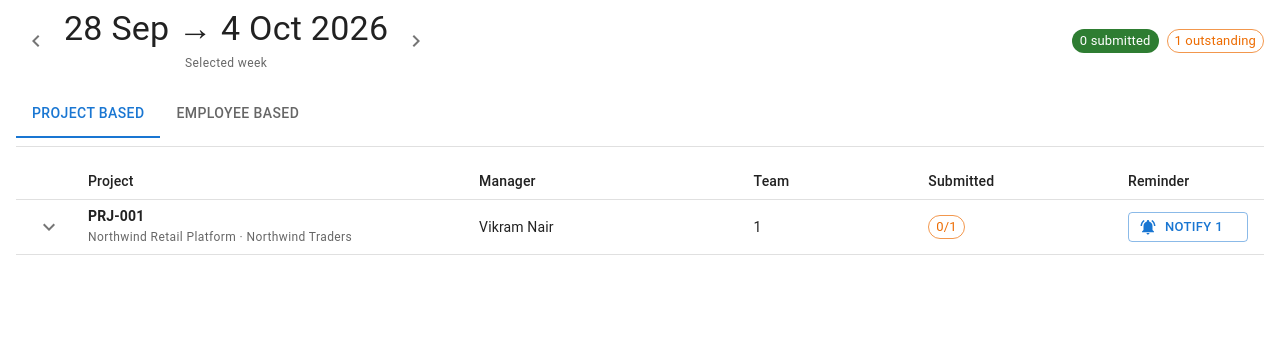
Test: TimesheetTrackingTab, project view › opens it from the arrow exactly once
The image size is (1280, 358).
Click the button named "Show the team on PRJ-001": (49, 227) [32, 210, 66, 244]
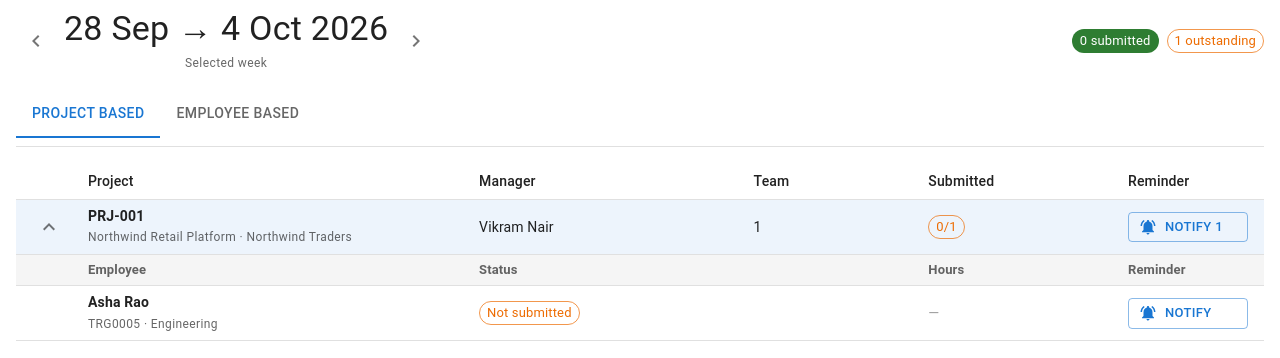
Expected: the text "Asha Rao" is shown, [88, 294, 149, 310]
Expected: the button named "Show the team on PRJ-001" is expanded, [32, 210, 66, 244]
